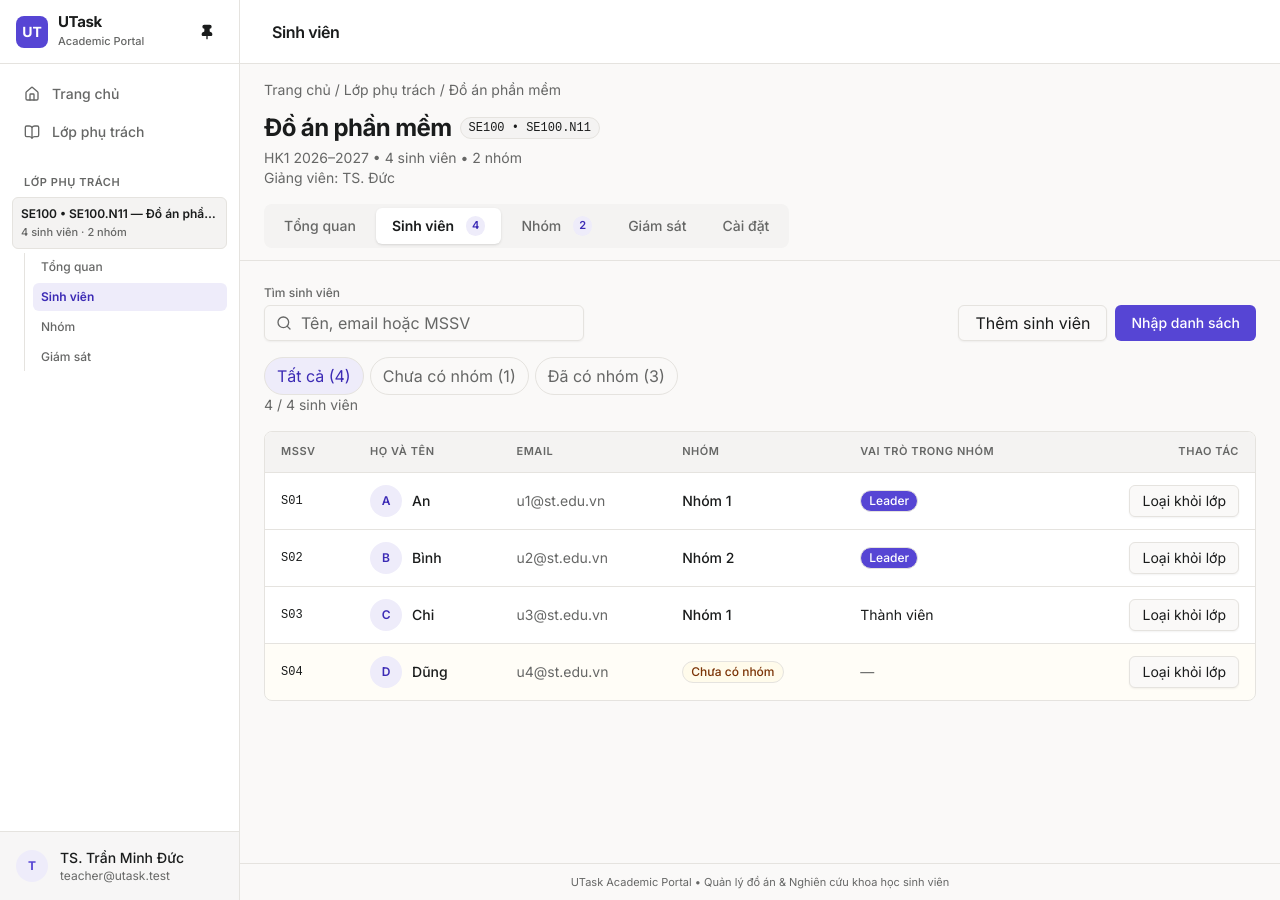
Test: adding one student › explains a refused row in words
Click the button "Thêm sinh viên" at (1033, 323), box [958,305,1108,341]
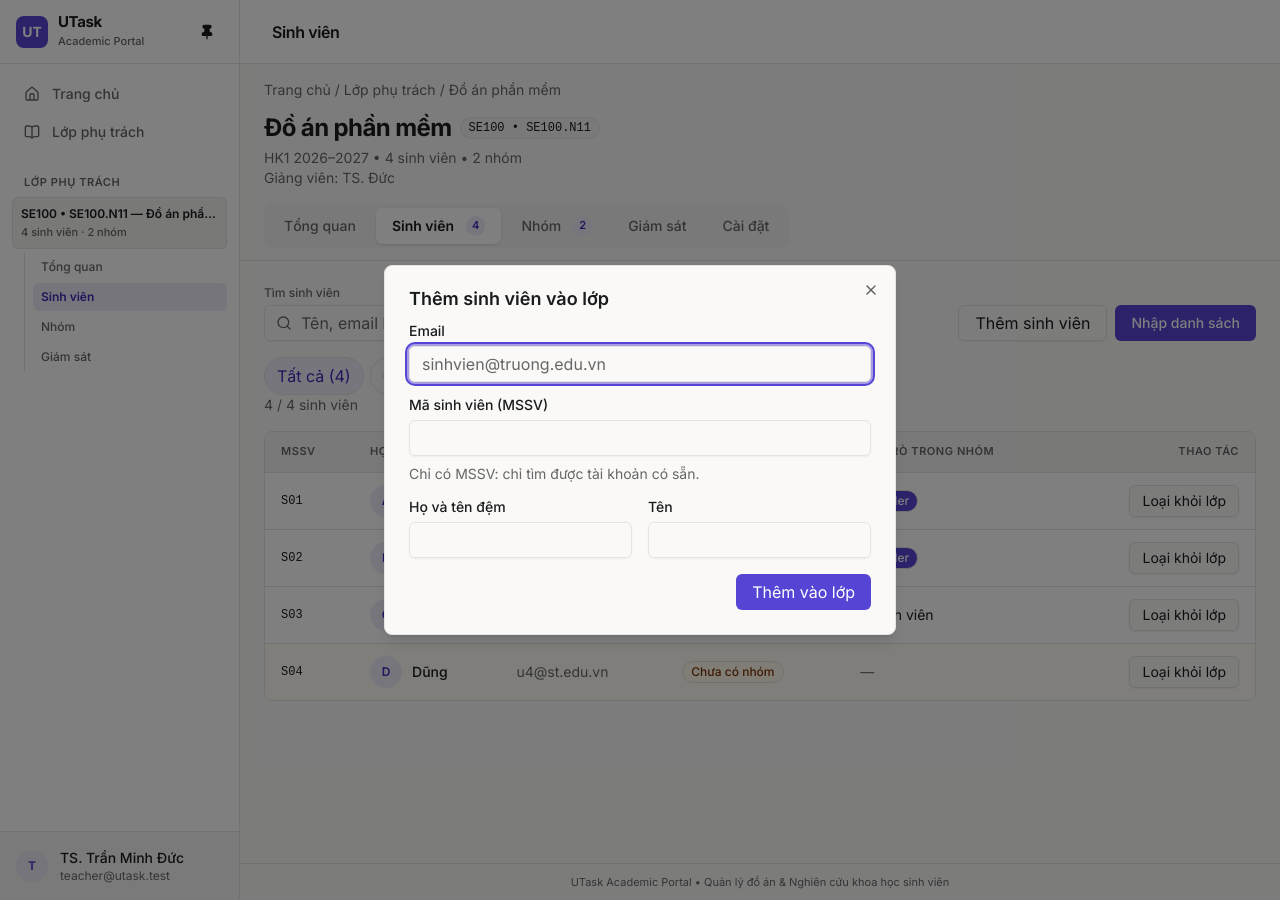
Type "gv@utask.test" into the field labelled "Email" at (640, 364), box [409,346,871,382]
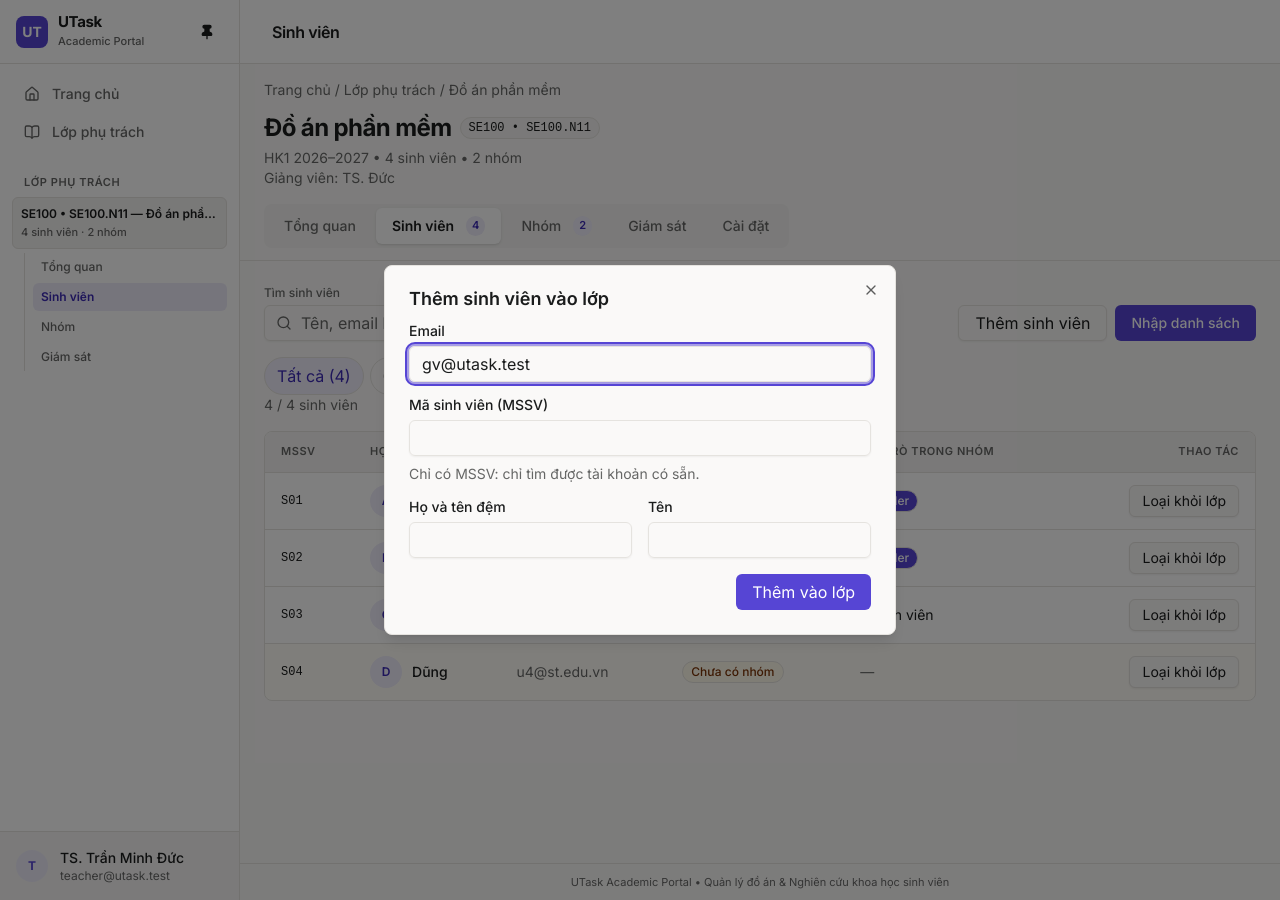
Click the button "Thêm vào lớp" at (804, 592), box [736,574,871,610]
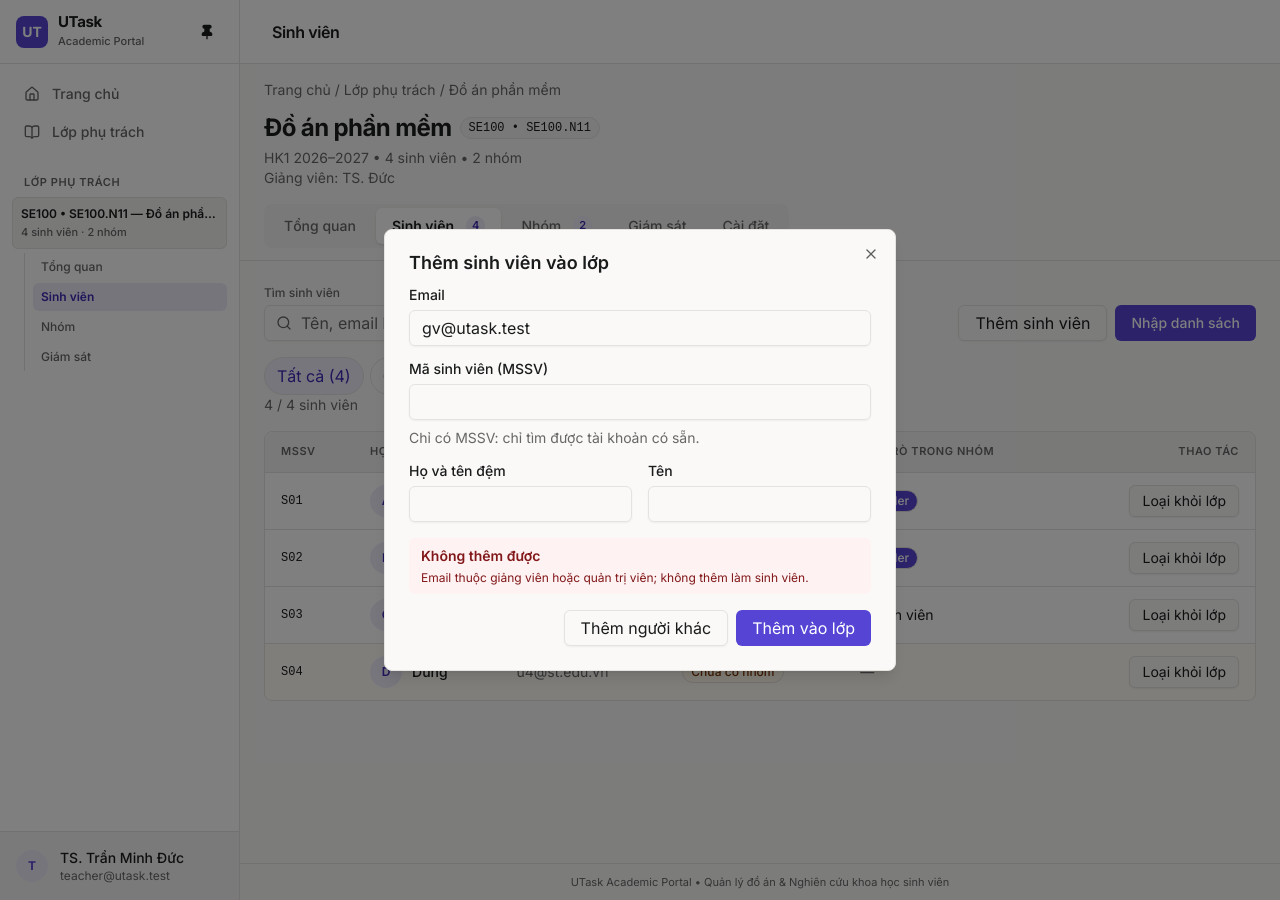
Result: the text "giảng viên" is shown at [421,570,809,585]
